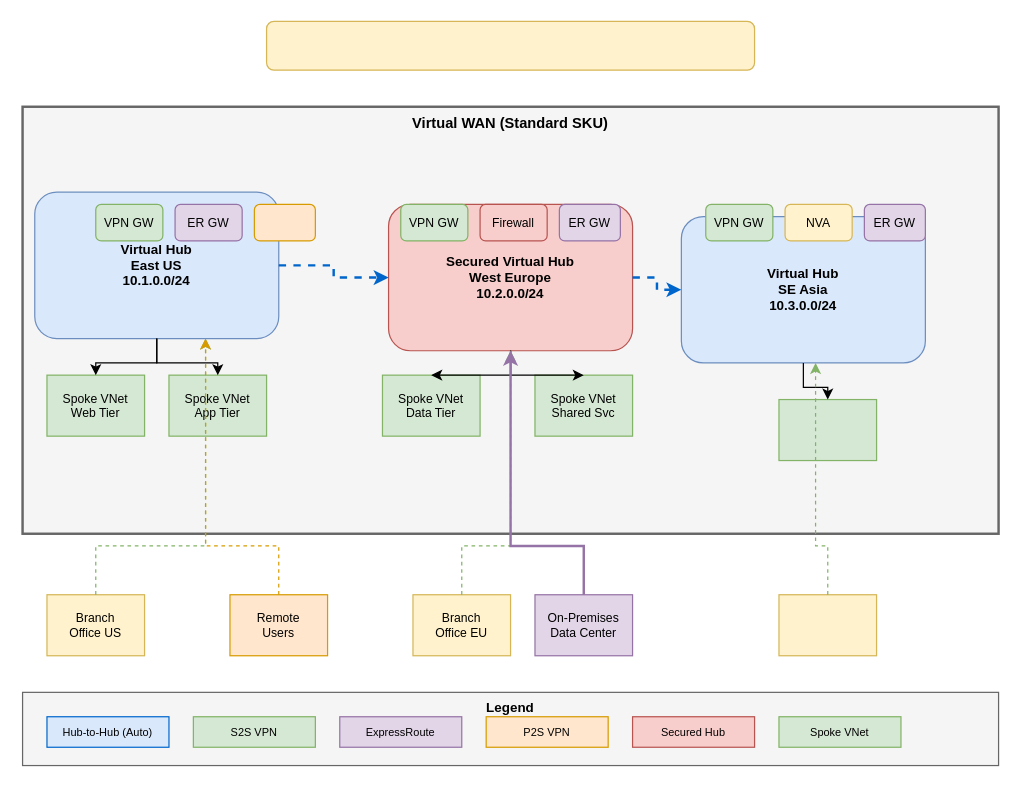
Image size: 1020x787. Some labels were removed from this diagram. Here are the shapes that lost their labels. From the top down, the centre of each, then its label:
[510,45]: Azure Global Backbone Network
[284,222]: P2S GW
[827,429]: Spoke VNet APAC Apps
[827,625]: Branch Office Asia
